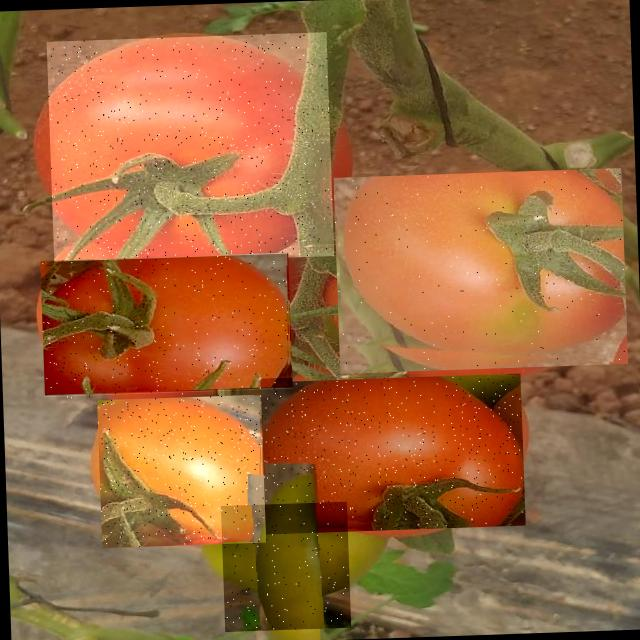Ripe Tomato: (46, 32, 334, 266), (333, 168, 628, 374), (260, 373, 524, 534), (39, 252, 292, 400), (97, 394, 266, 548)
Unripe Tomato: (220, 502, 350, 632)
